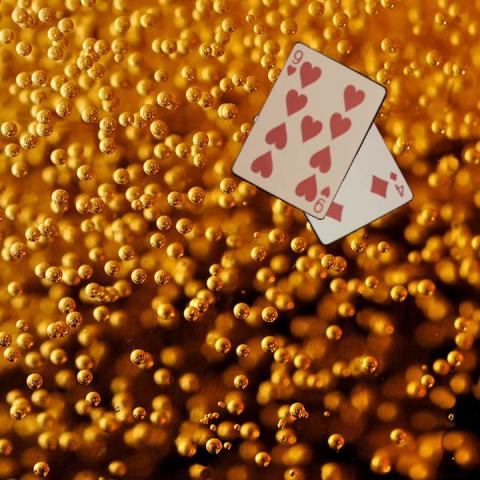4d: (386, 168, 405, 199)
9h: (310, 184, 332, 216), (283, 47, 305, 78)
